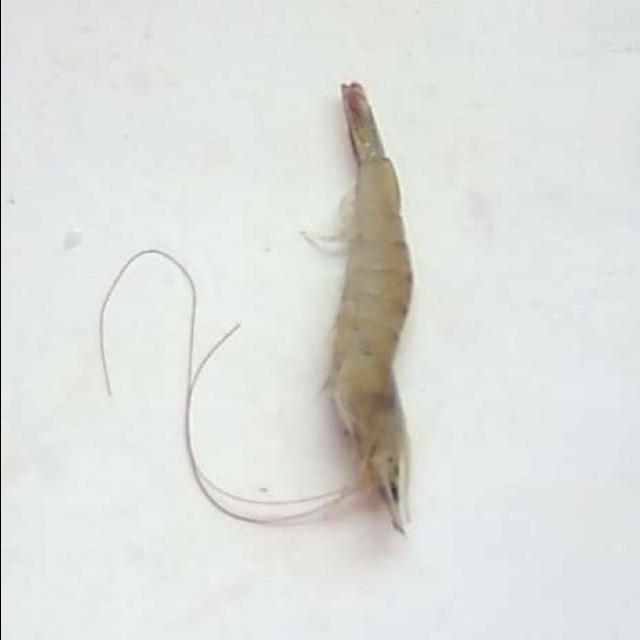shrimp: (324, 83, 412, 536)
